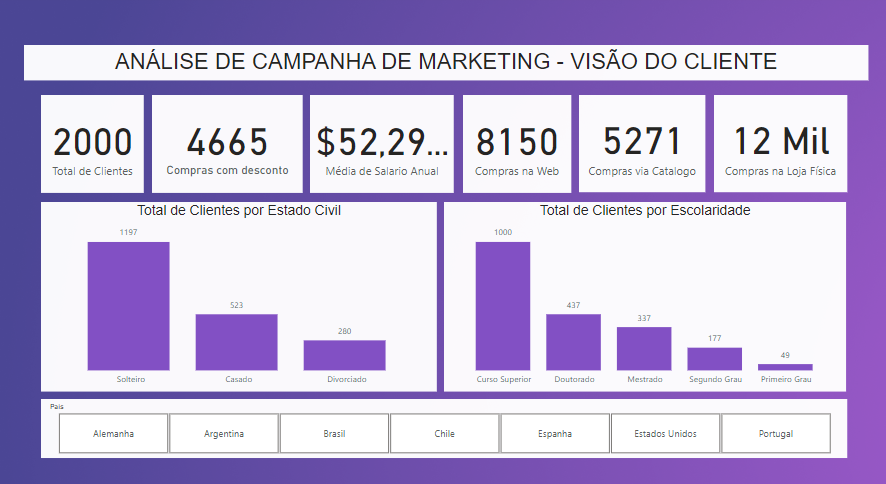

The dashboard page shown, as its layout file describes it:
{"tool":"powerbi","page":{"name":"Cliente","canvas":[1280,720],"ordinal":0},"visuals":[{"type":"card","fields":{"Values":["CountNonNull(DadosMarketing.ID)"]},"box":[61.9,144,148.3,141.1],"z":0},{"type":"card","fields":{"Values":["Avg(DadosMarketing.Salario Anual)"]},"box":[449.3,144,207.4,141.1],"z":1000},{"type":"card","fields":{"Values":["Sum(DadosMarketing.Numero de Compras na Loja)"]},"box":[1030.6,144.5,191.5,140.1],"z":2000},{"type":"card","fields":{"Values":["Sum(DadosMarketing.Numero de Compras na Web)"]},"box":[669.6,144,155.5,141.1],"z":3000},{"type":"card","title":"Total de Compras","fields":{"Values":["Sum(DadosMarketing.Numero de Compras com Desconto)"]},"box":[221.8,144,217.4,141.1],"z":4000},{"type":"card","fields":{"Values":["Sum(DadosMarketing.Numero de Compras via Catalogo)"]},"box":[836,144.5,182.2,140.1],"z":5000},{"type":"textbox","box":[37.1,71.3,1216.2,51.4],"z":6000},{"type":"clusteredColumnChart","fields":{"Category":["DadosMarketing.Escolaridade"],"Y":["CountNonNull(DadosMarketing.ID)"]},"box":[642.9,298.7,579.3,272.5],"z":7000},{"type":"clusteredColumnChart","fields":{"Category":["DadosMarketing.Estado Civil"],"Y":["CountNonNull(DadosMarketing.ID)"]},"box":[62.1,298.7,569.9,272.5],"z":8000},{"type":"slicer","fields":{"Values":["DadosMarketing.Pais"]},"box":[61.9,581.8,1160.6,85],"z":9000}]}

Visuals, with their boxes in screenshot pixels (x1, y1, x2, y2), scaled from the page's 1280x720 canvas onto the 886x484 screenshot:
card - CountNonNull(DadosMarketing.ID): region(43, 97, 145, 192)
card - Avg(DadosMarketing.Salario Anual): region(311, 97, 455, 192)
card - Sum(DadosMarketing.Numero de Compras na Loja): region(713, 97, 846, 191)
card - Sum(DadosMarketing.Numero de Compras na Web): region(463, 97, 571, 192)
"Total de Compras" card: region(154, 97, 304, 192)
card - Sum(DadosMarketing.Numero de Compras via Catalogo): region(579, 97, 705, 191)
textbox: region(26, 48, 868, 82)
clusteredColumnChart - DadosMarketing.Escolaridade x CountNonNull(DadosMarketing.ID): region(445, 201, 846, 384)
clusteredColumnChart - DadosMarketing.Estado Civil x CountNonNull(DadosMarketing.ID): region(43, 201, 437, 384)
slicer - DadosMarketing.Pais: region(43, 391, 846, 448)
